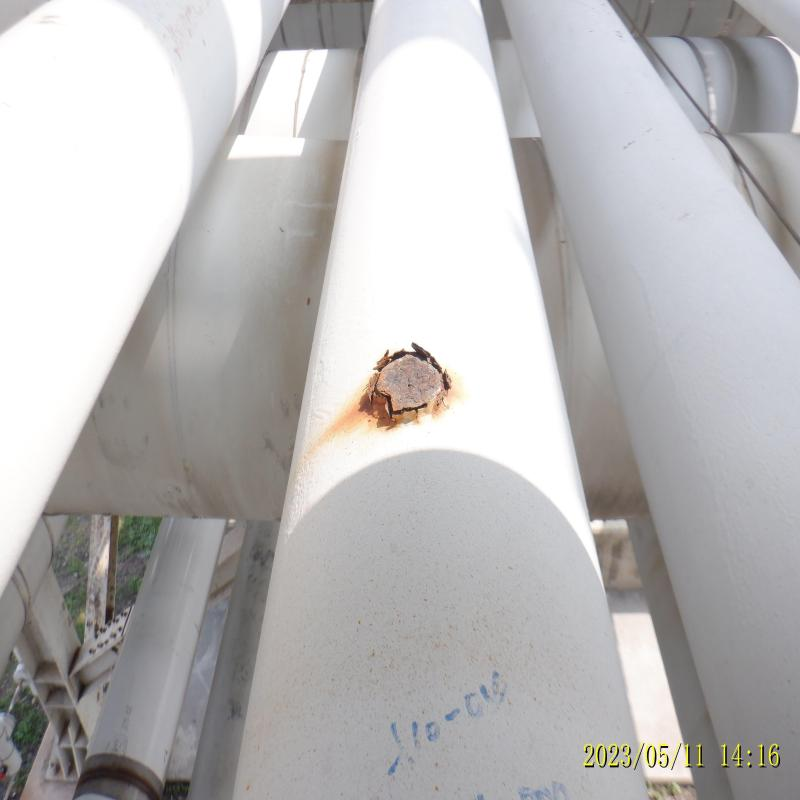Fracture: (366, 387, 436, 426), (372, 344, 448, 370)
